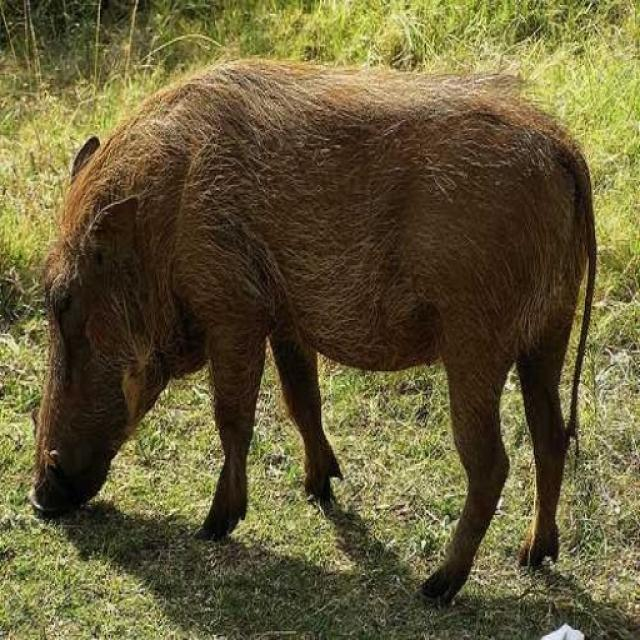pig: (43, 55, 577, 564)
